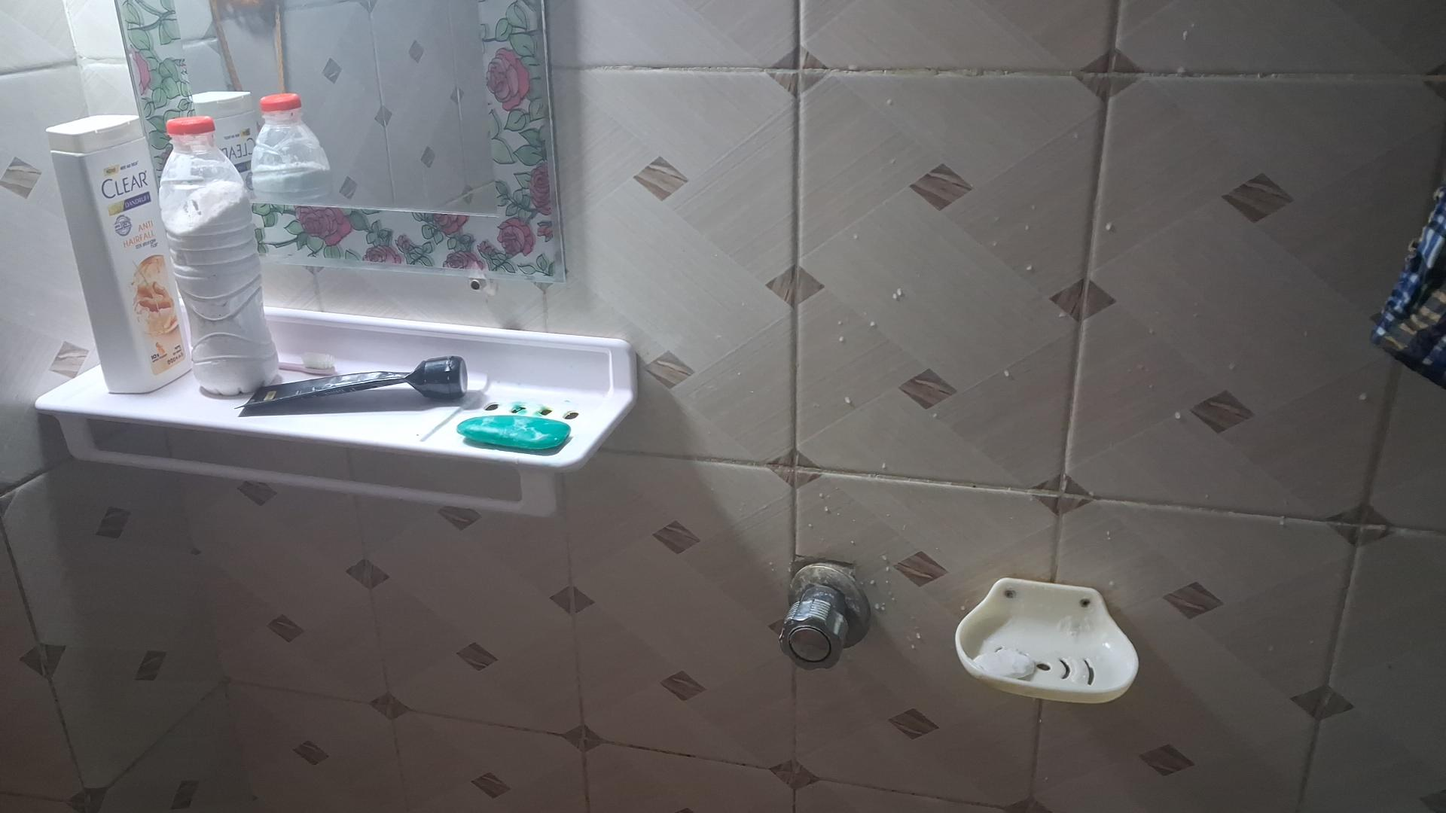Bottle: (42, 104, 197, 394), (158, 115, 280, 398), (251, 92, 332, 202)
Soap: (455, 418, 571, 455)
